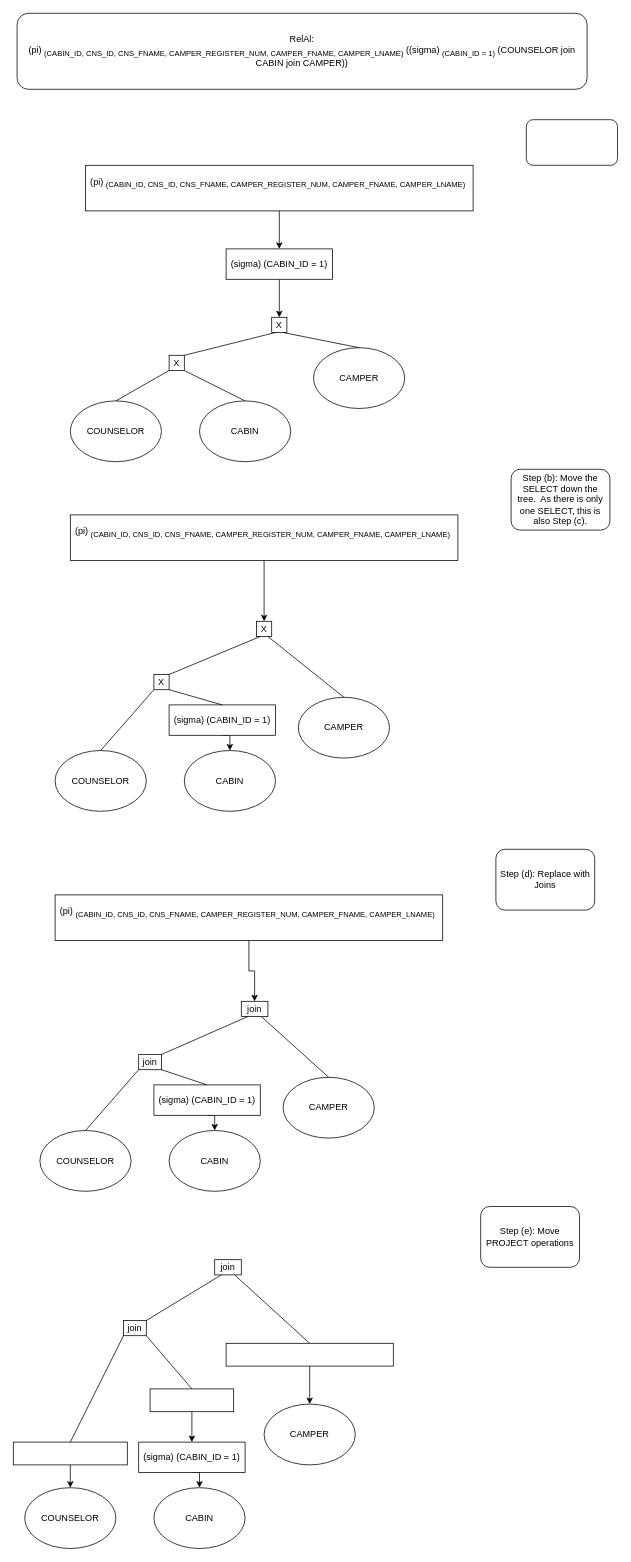
This 631x1562 diagram has some shape labels left out. The box of each missing label's shape, as (x1, y1, x2, y2) in pixels:
(pi) CABIN_ID: (149, 1388, 234, 1412)
(pi) CAMPER_REGISTER_NUM, CAMPER_LNAME, CAMPER_FNAME: (225, 1343, 393, 1366)
(pi) CNS_FNAME, CNS_ID: (13, 1441, 127, 1465)
Initial Query Tree: (526, 119, 618, 165)
